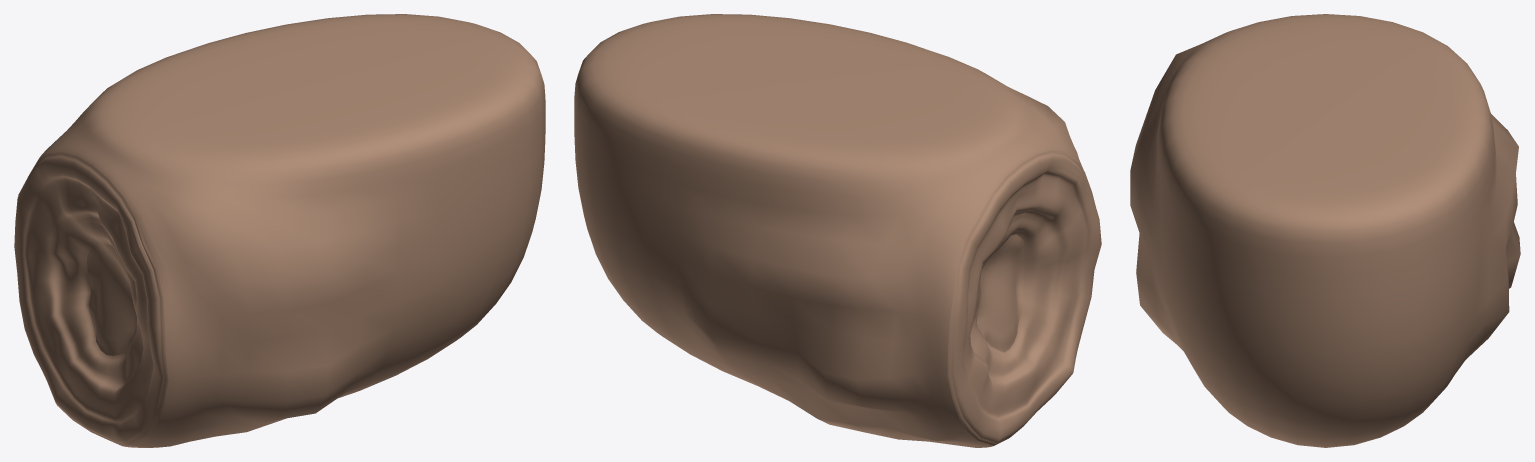
File: tree knob.fbx
The picture shows the model from 3 angles, left to right: view 1: azimuth 30°, elevation 25°; view 2: azimuth 150°, elevation 25°; view 3: azimuth 270°, elevation 25°; orthographic projection. The views are drawn at different scales.
Parts seen in each view (by area): view 1: Cube.036; view 2: Cube.036; view 3: Cube.036.
Part boxes in pixels (x1,y1,x2,y2): Cube.036: [14, 14, 545, 447]; Cube.036: [574, 14, 1101, 447]; Cube.036: [1130, 14, 1520, 447].
Size of the model in its own units: 296 by 203 by 215.
